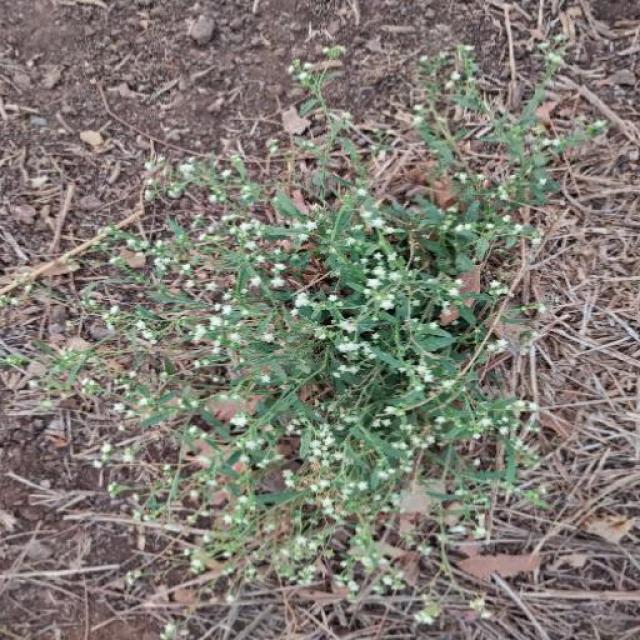weed: (134, 129, 531, 526)
